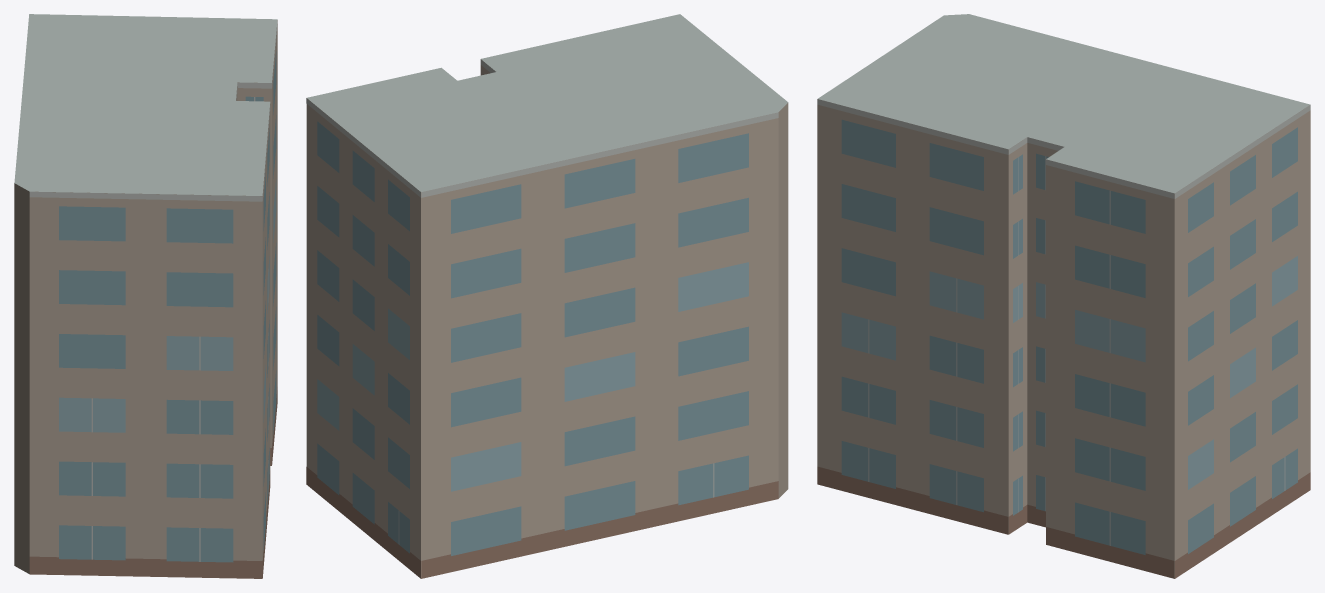
The model's file is survey-upis-32707434.glb.
3 views of the same model, side by side, from view 1: azimuth 30°, elevation 25°; view 2: azimuth 150°, elevation 25°; view 3: azimuth 270°, elevation 25° (orthographic).
Parts seen in each view (by area): view 1: survey-upis-32707434.tmp; view 2: survey-upis-32707434.tmp; view 3: survey-upis-32707434.tmp.
Boxes of the visible parts, left/top/right/bottom form: survey-upis-32707434.tmp: left=14, top=14, right=277, bottom=578; survey-upis-32707434.tmp: left=306, top=14, right=788, bottom=578; survey-upis-32707434.tmp: left=817, top=14, right=1310, bottom=578.
Size of the model in its own units: 16.59 by 16.6 by 19.26.
